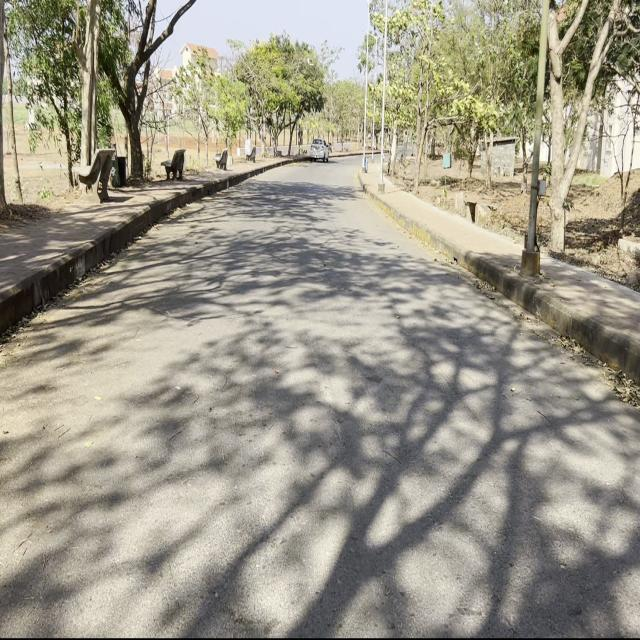Object: (309, 125, 328, 168)
Road: (4, 162, 639, 628)
